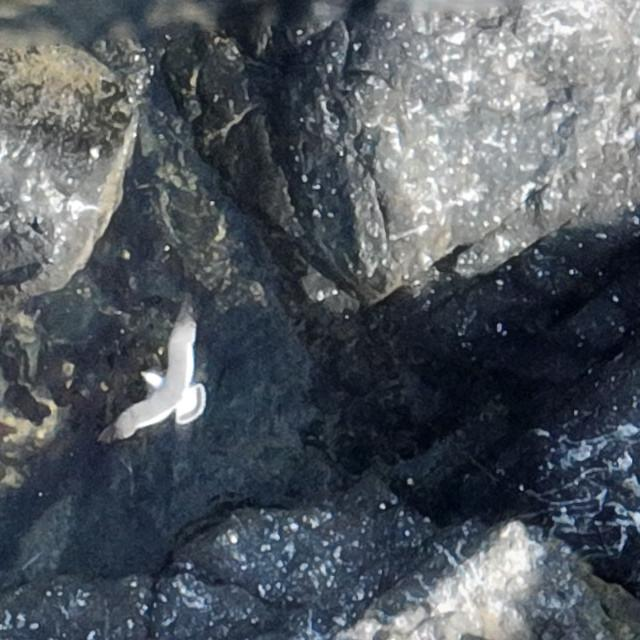F: (128, 323, 204, 433)
